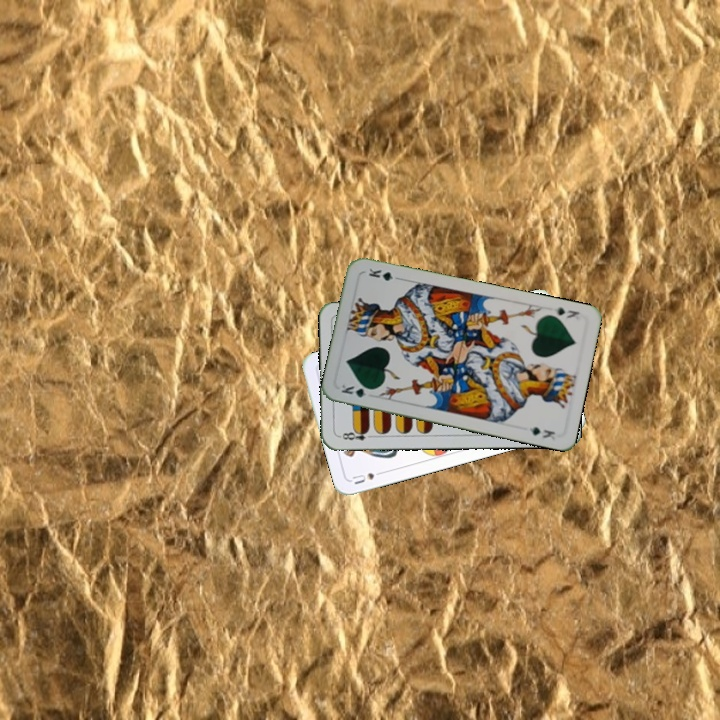E8: (335, 426, 376, 443)
GK: (337, 380, 377, 400), (549, 303, 582, 321)
SU: (348, 467, 388, 487)
